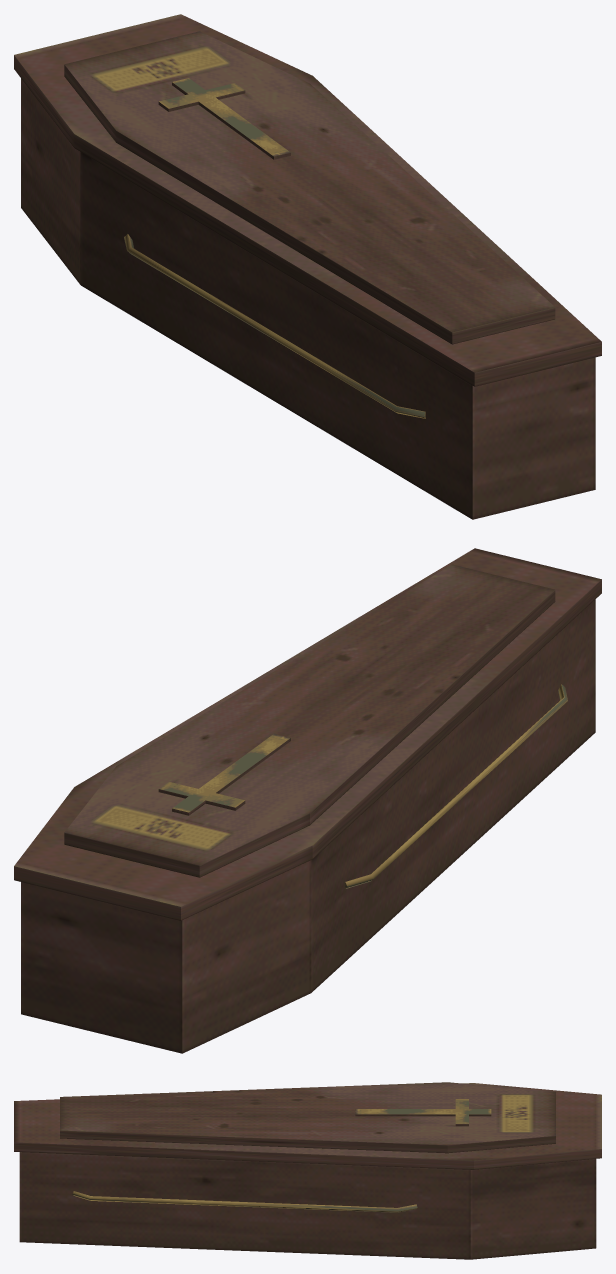
The model's file is coffin_closed.obj.
The picture shows the model from 3 angles, top to bottom: view 1: azimuth 30°, elevation 25°; view 2: azimuth 150°, elevation 25°; view 3: azimuth 270°, elevation 25°; orthographic projection. The views are drawn at different scales.
Visible parts, largest first — view 1: coffin_closed; view 2: coffin_closed; view 3: coffin_closed.
Part boxes in pixels (bbox=[...]): coffin_closed: bbox=[14, 14, 601, 519]; coffin_closed: bbox=[14, 548, 601, 1053]; coffin_closed: bbox=[14, 1082, 601, 1259].
Bounding box in the file's own units: 0.6427 × 0.413 × 1.99.
1 material, 1 textured.
